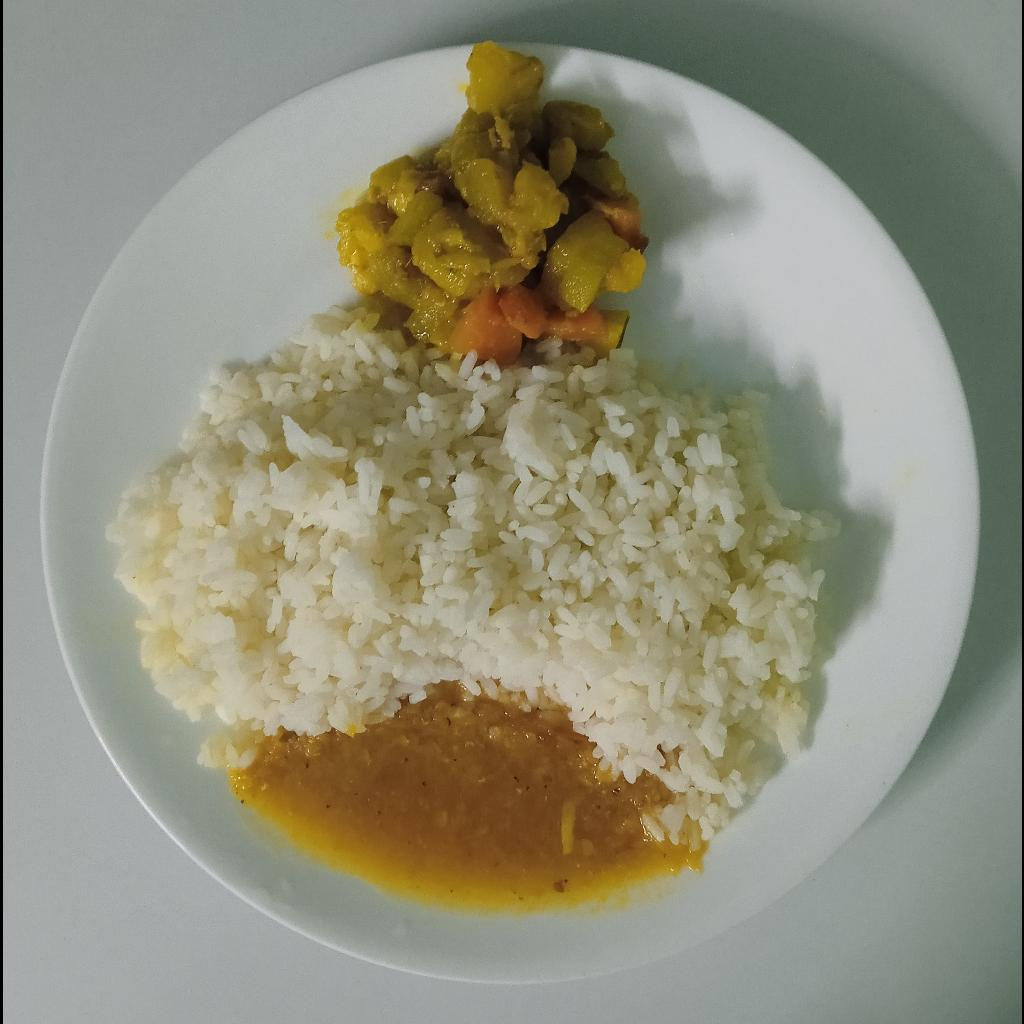daal: (227, 687, 708, 912)
rice: (109, 304, 844, 839)
vegetable: (336, 45, 647, 365)
